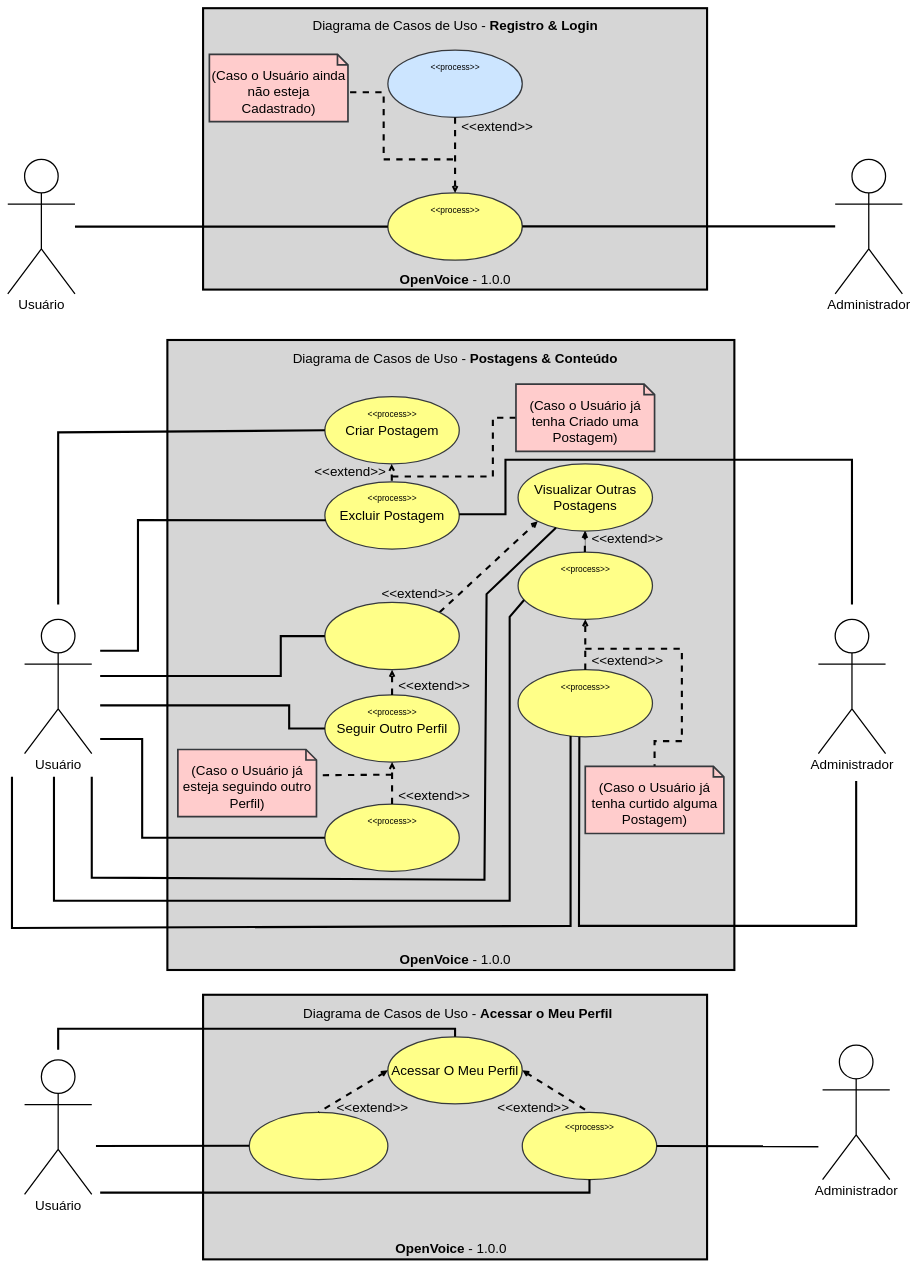
The diagram is 917 pixels wide and 1268 high, and some of its shapes have lost their labels. Here are the shapes that lost their labels. From the top down, the box of each, then its label:
(387, 49, 523, 118): Realizar Registro
(387, 192, 523, 261): Realizar Login
(517, 551, 653, 620): Curtir Postagem
(324, 602, 460, 670): Acessar Outro Perfil
(517, 669, 653, 737): Remover Curtida
(324, 803, 460, 872): Deixar de Seguir
(248, 1112, 388, 1180): Acessar As Próprias Postagens
(521, 1112, 657, 1180): Alterar Foto de Perfil
